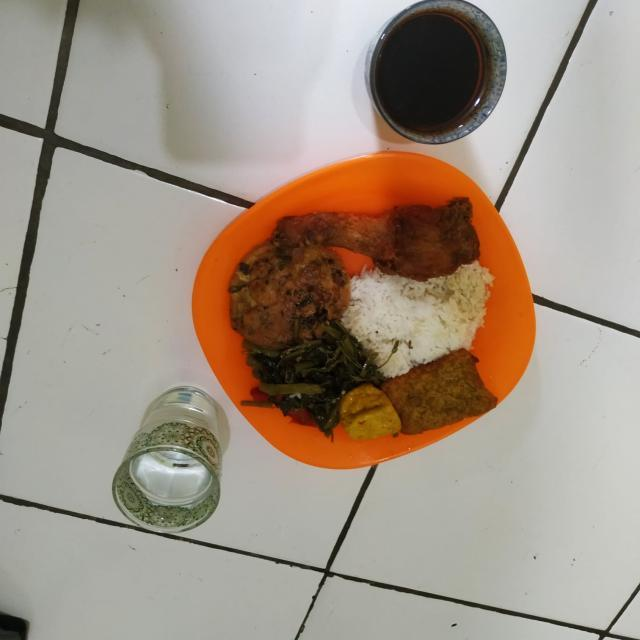ayam_goreng: (260, 187, 528, 284)
telur_ayam_dadar: (216, 238, 354, 356)
